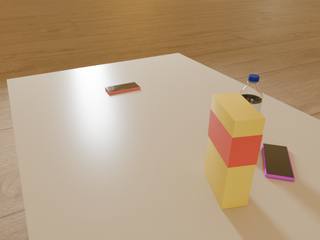bottle: (239, 74, 263, 112)
box: (205, 92, 265, 209)
phone: (262, 144, 295, 181), (105, 82, 140, 94)
